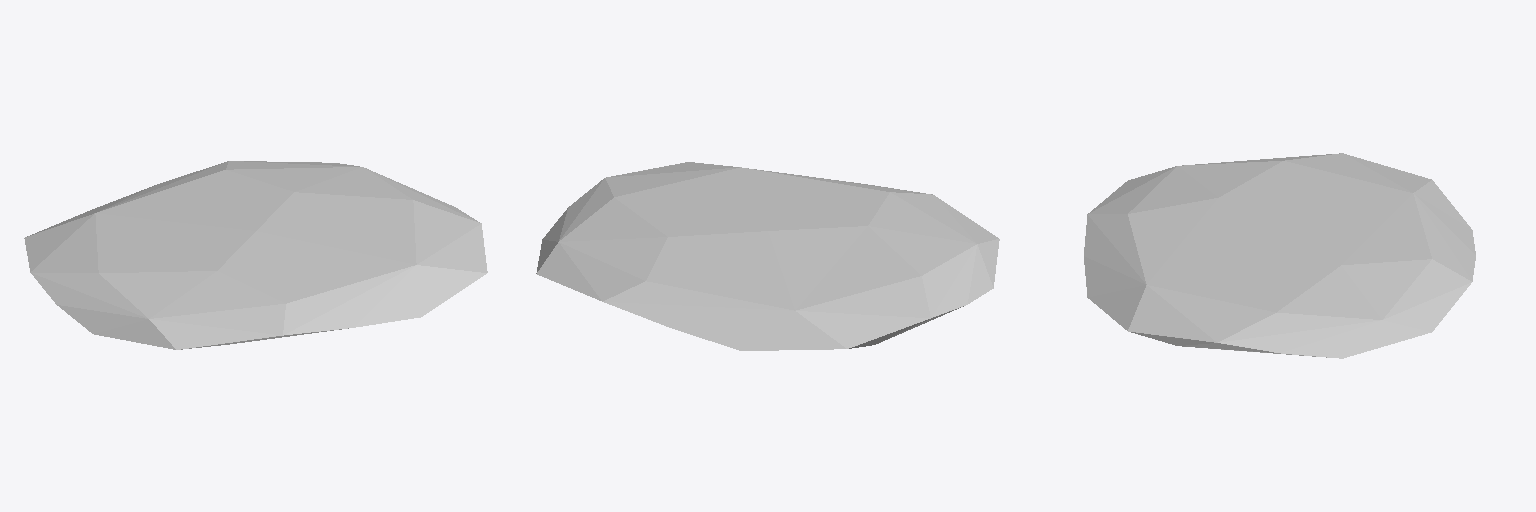
Rendered from bottom.obj.
The picture shows the model from 3 angles: view 1: azimuth 30°, elevation 25°; view 2: azimuth 150°, elevation 25°; view 3: azimuth 270°, elevation 25°; orthographic projection.
Parts seen in each view (by area): view 1: Cube; view 2: Cube; view 3: Cube.
Part boxes in pixels (x1,y1,x2,y2): Cube: (24, 161, 487, 349); Cube: (536, 162, 999, 350); Cube: (1084, 153, 1475, 358).
Bounding box in the file's own units: 13.47 × 1.61 × 11.46.